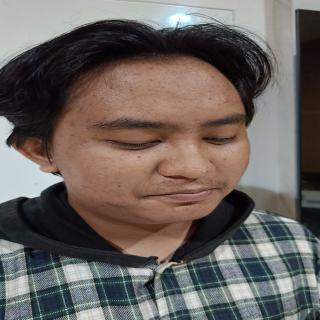Sedih: (63, 44, 255, 234)
